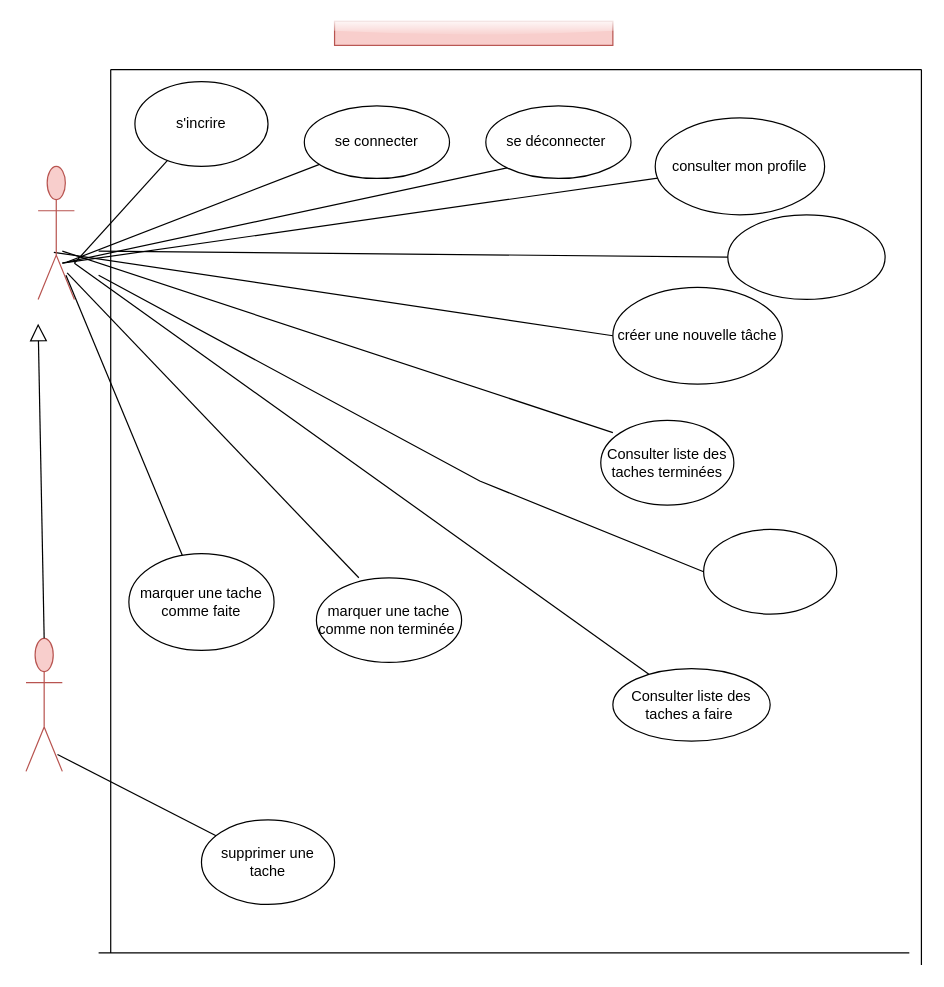
The diagram is 944 pixels wide and 987 high, and some of its shapes have lost their labels. Here are the shapes that lost their labels. From the top down, the centre of each, then its label:
the point at 473,32: DIAGRAMME DE CAS UTILISATION
the point at 55,232: user
the point at 806,256: modifier mon profile
the point at 769,571: modifier une tache
the point at 43,704: ADMIN
